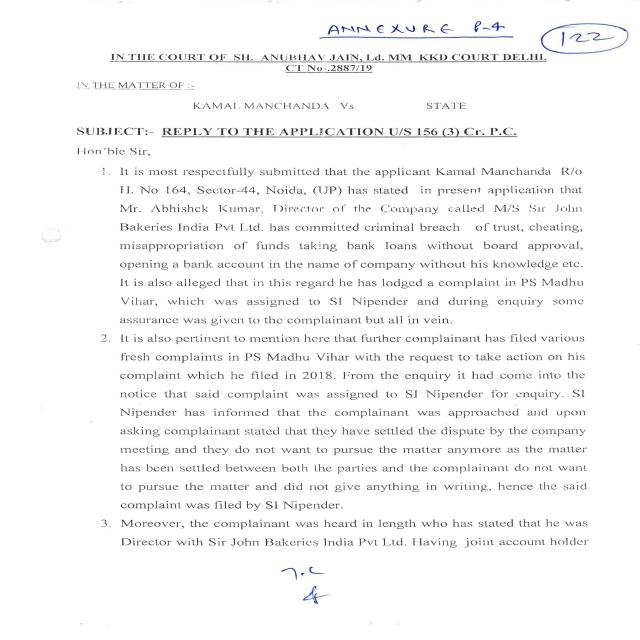page-number: (540, 0, 640, 122)
